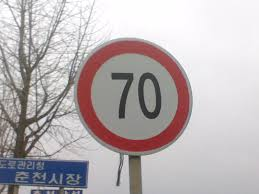Speed_limit_70km: (75, 37, 193, 154)
